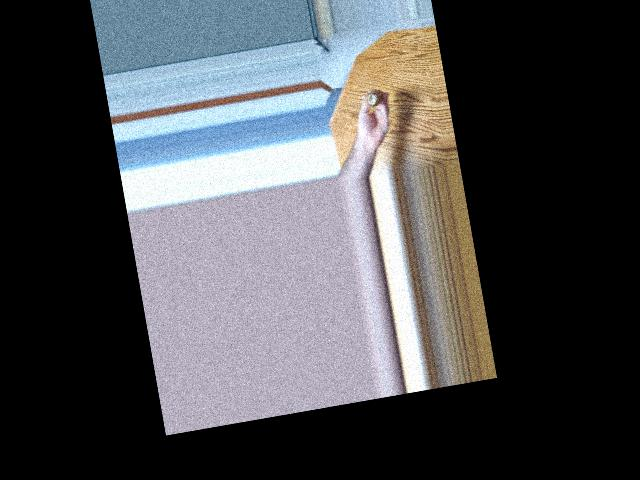sweet_potato: (360, 85, 380, 107)
